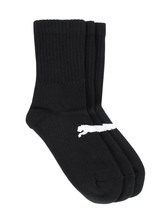sock: (25, 20, 150, 204)
